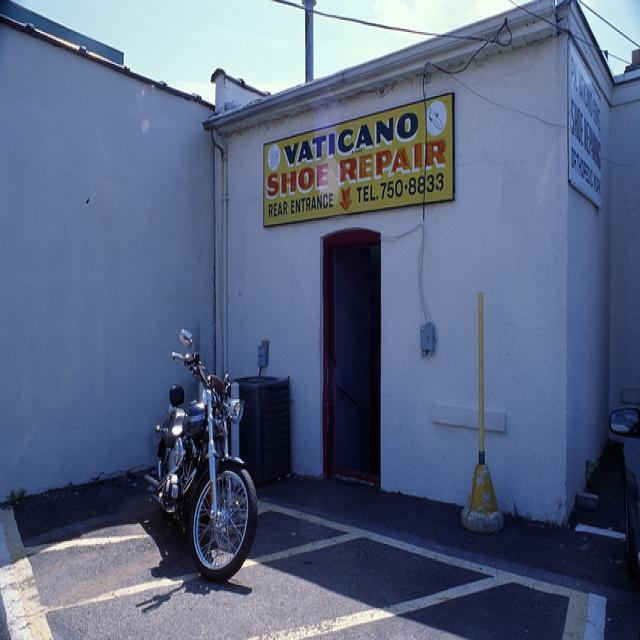motor: (141, 329, 258, 585)
